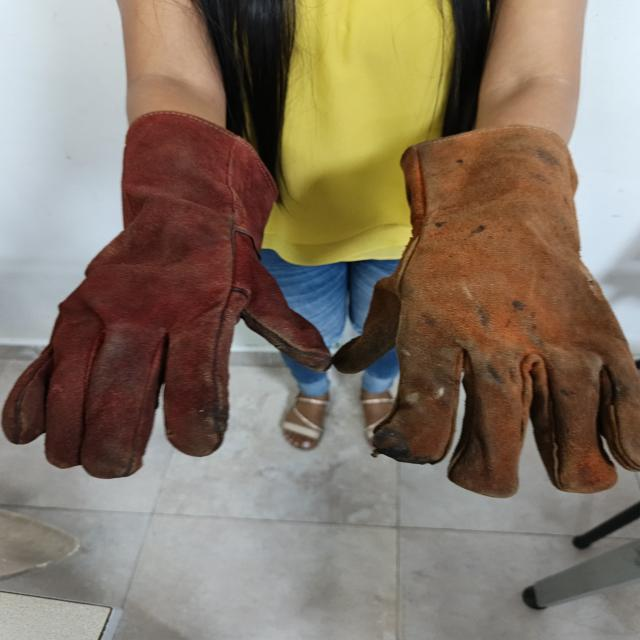gloves: (2, 112, 331, 479), (332, 126, 640, 498)
